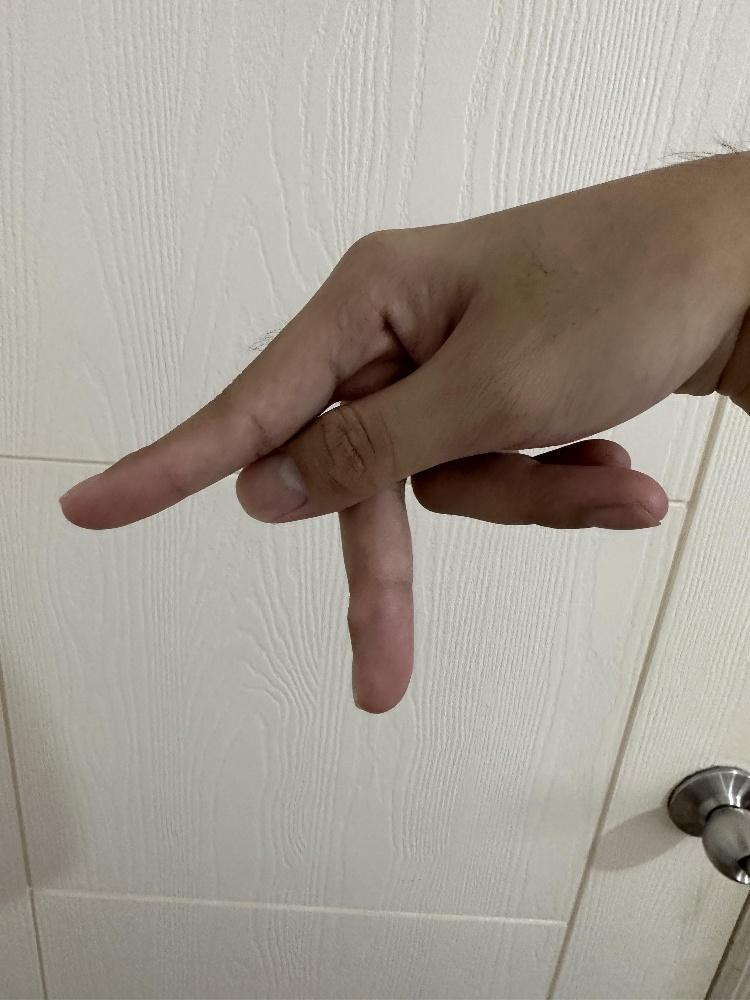p: (55, 150, 729, 717)
